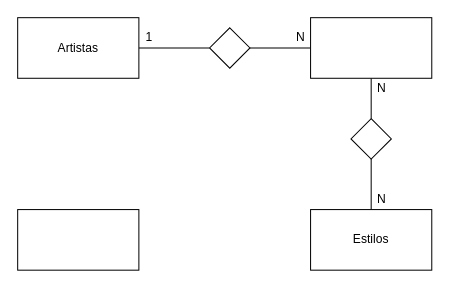
This 449x288 diagram has some shape labels left out. Here are the shapes that lost their labels. From the top down, the box of each, then its label:
(310, 17, 432, 78): Albuns
(17, 209, 139, 270): Usuarios
